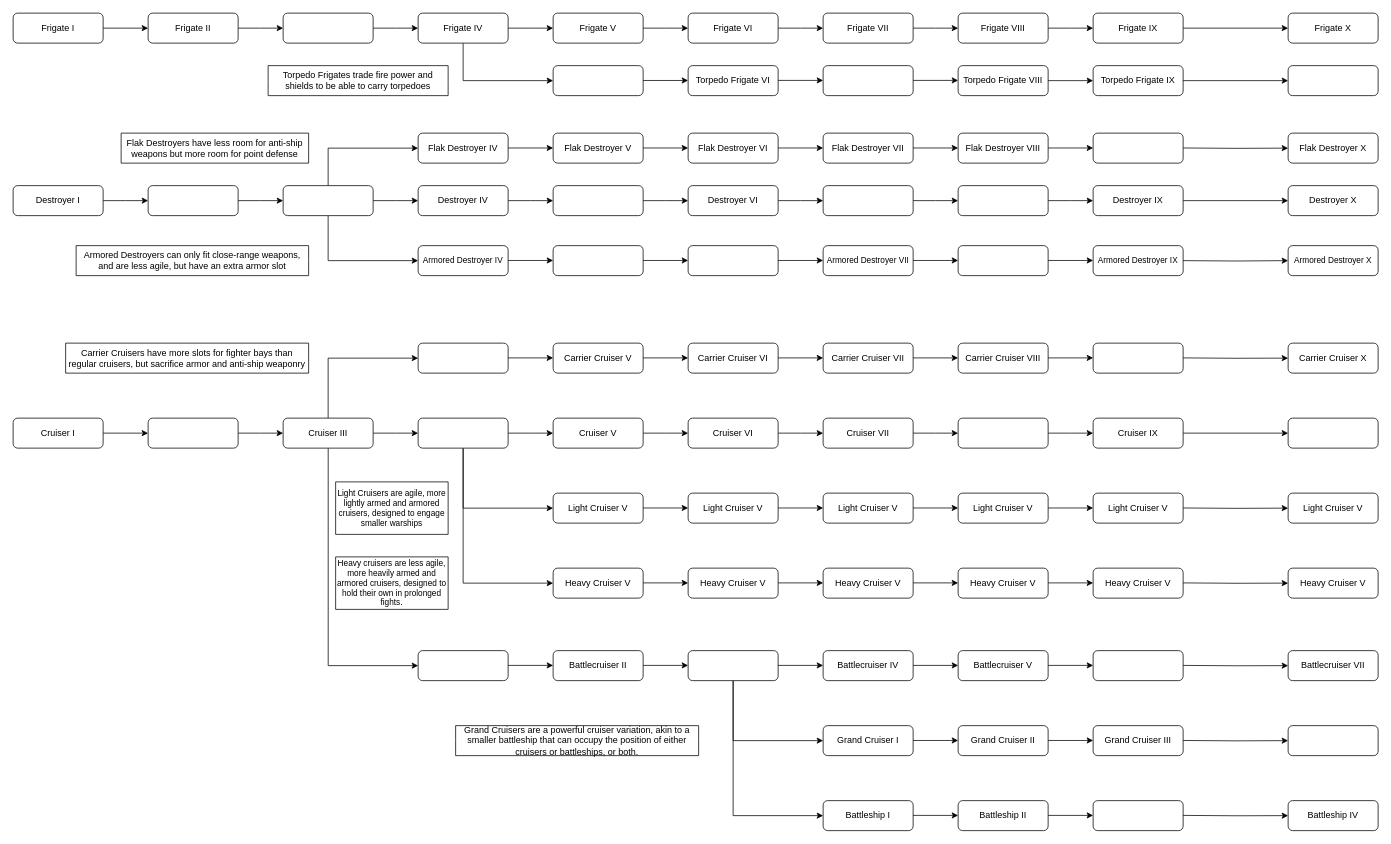
This 1391x844 diagram has some shape labels left out. The centre of each missing label's shape, as x and y in pixels:
"Armored Destroyer V" goes at (x=597, y=260).
"Armored Destroyer VI" goes at (x=732, y=260).
"Armored Destroyer VIII" goes at (x=1002, y=260).
"Battlecruiser I" goes at (x=462, y=665).
"Battlecruiser III" goes at (x=732, y=665).
"Battlecruiser VI" goes at (x=1137, y=665).
"Battleship III" goes at (x=1137, y=815).
"Carrier Cruiser IV" goes at (x=462, y=357).
"Carrier Cruiser IX" goes at (x=1137, y=357).
"Cruiser II" goes at (x=192, y=432).
"Cruiser IV" goes at (x=462, y=432).
"Cruiser VIII" goes at (x=1002, y=432).
"Cruiser X" goes at (x=1332, y=432).
"Destroyer II" goes at (x=192, y=200).
"Destroyer III" goes at (x=327, y=200).
"Destroyer V" goes at (x=597, y=200).
"Destroyer VII" goes at (x=867, y=200).
"Destroyer VIII" goes at (x=1002, y=200).
"Flak Destroyer IX" goes at (x=1137, y=147).
"Frigate III" goes at (x=327, y=27).
"Grand Cruiser IV" goes at (x=1332, y=740).
"Torpedo Frigate V" goes at (x=597, y=80).
"Torpedo Frigate VII" goes at (x=867, y=80).
"Torpedo Frigate X" goes at (x=1332, y=80).
